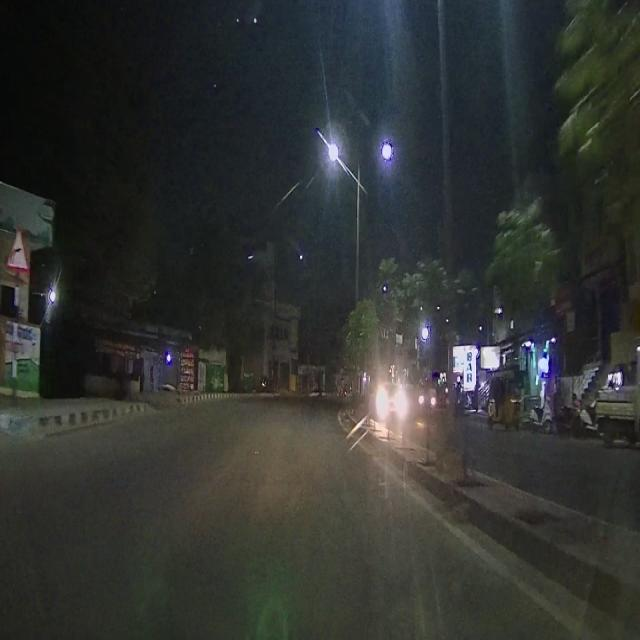right-hand-curve: (8, 228, 30, 270)
